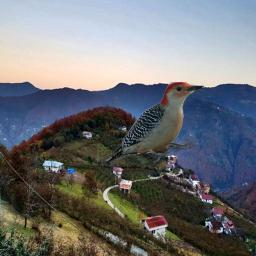Woodpecker: (105, 82, 206, 164)
